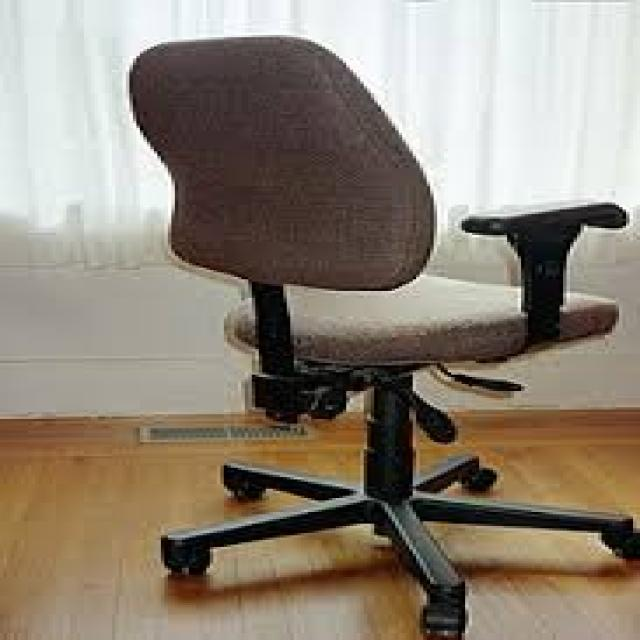chair: (62, 18, 640, 640)
